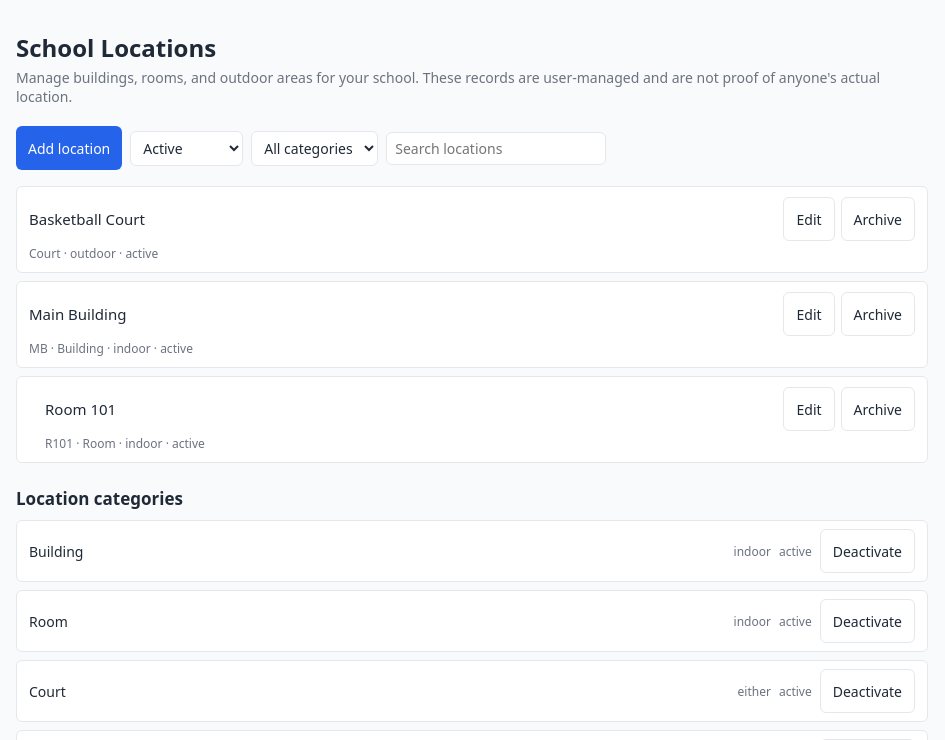
it: Locations › requires a name before creating
Expected: the text "Main Building" is shown, [29,304,126,324]
Click the button "Add location". click: (69, 148)
box: [16,126,122,170]
(page scrolled)
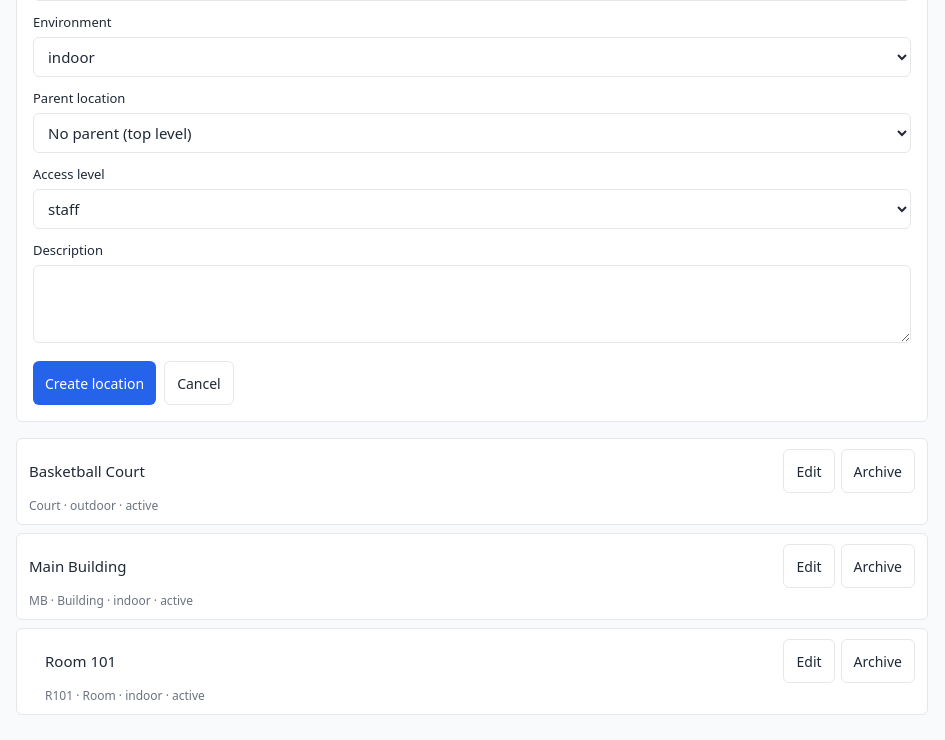
Click the button "Create location". click: (95, 383)
box: [33,361,156,405]
(page scrolled)
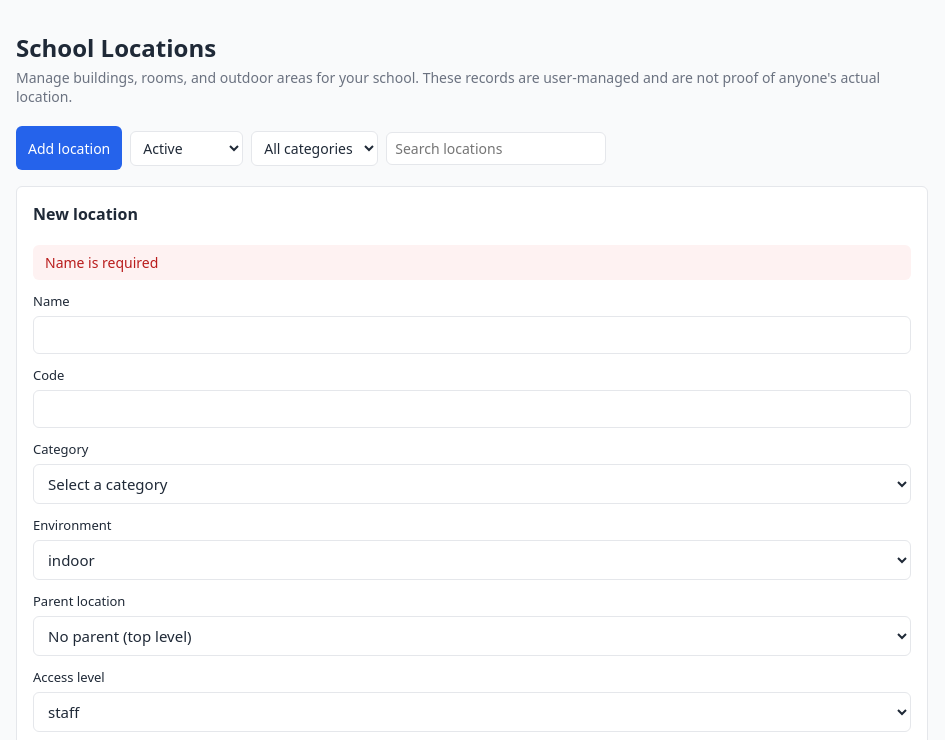
Result: the message reads "Name is required" at [45,253,158,272]
